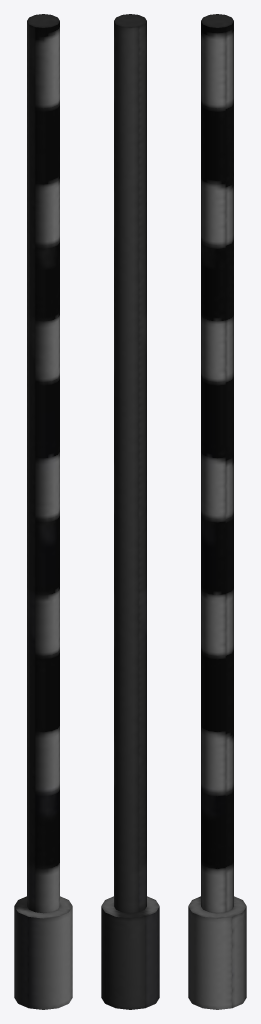
Rendered from pole.obj.
The picture shows the model from 3 angles, left to right: view 1: azimuth 30°, elevation 25°; view 2: azimuth 150°, elevation 25°; view 3: azimuth 330°, elevation 25°; orthographic projection.
Parts seen in each view (by area): view 1: Cylinder001; view 2: Cylinder001; view 3: Cylinder001.
Part boxes in pixels (x1,y1,x2,y2): Cylinder001: (14, 14, 72, 1009); Cylinder001: (101, 14, 159, 1009); Cylinder001: (188, 14, 246, 1009).
Bounding box in the file's own units: 14.11 × 259 × 14.11.
1 material, 1 textured.
